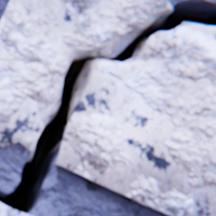brick: (0, 204, 29, 215)
broken_brick: (55, 24, 215, 215), (0, 0, 170, 151)
crack: (0, 1, 215, 214)
